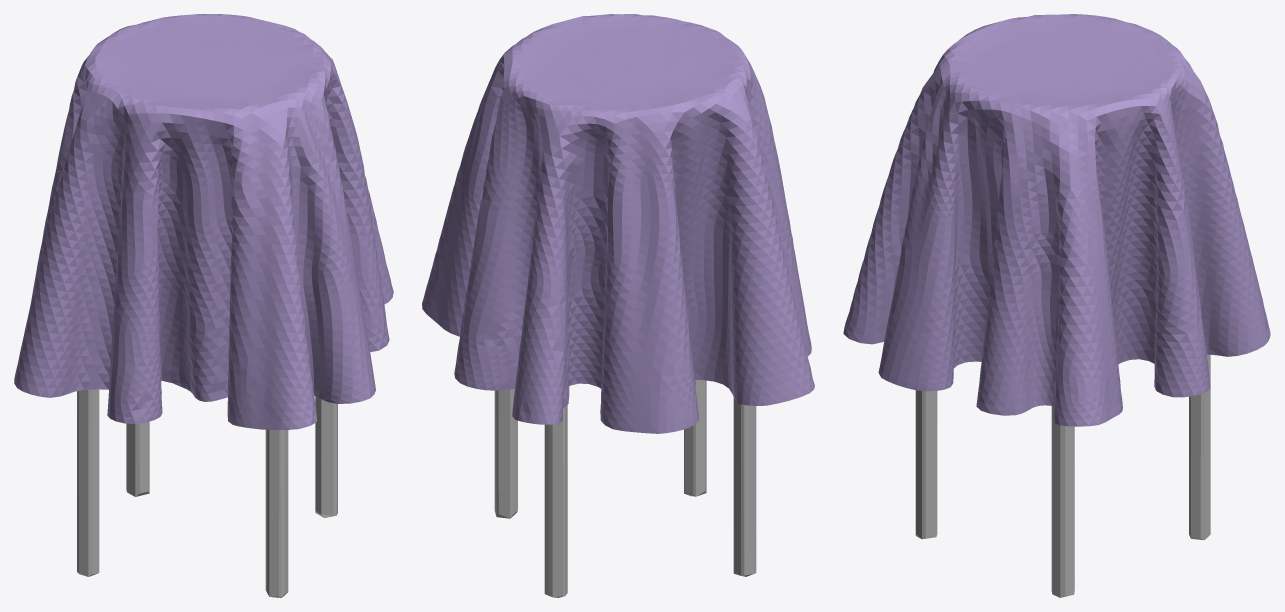
Rendered from level_2.glb.
The picture shows the model from 3 angles, left to right: view 1: azimuth 30°, elevation 25°; view 2: azimuth 150°, elevation 25°; view 3: azimuth 270°, elevation 25°; orthographic projection.
Parts seen in each view (by area): view 1: world, object.obj; view 2: world, object.obj; view 3: world, object.obj.
Part boxes in pixels (x1=…): world: x1=14, y1=14, x2=393, y2=429; object.obj: x1=77, y1=389, x2=337, y2=597; world: x1=422, y1=14, x2=814, y2=433; object.obj: x1=494, y1=380, x2=756, y2=597; world: x1=843, y1=14, x2=1270, y2=426; object.obj: x1=915, y1=354, x2=1210, y2=597.
Bounding box in the file's own units: 0.2585 × 0.3147 × 0.256.
